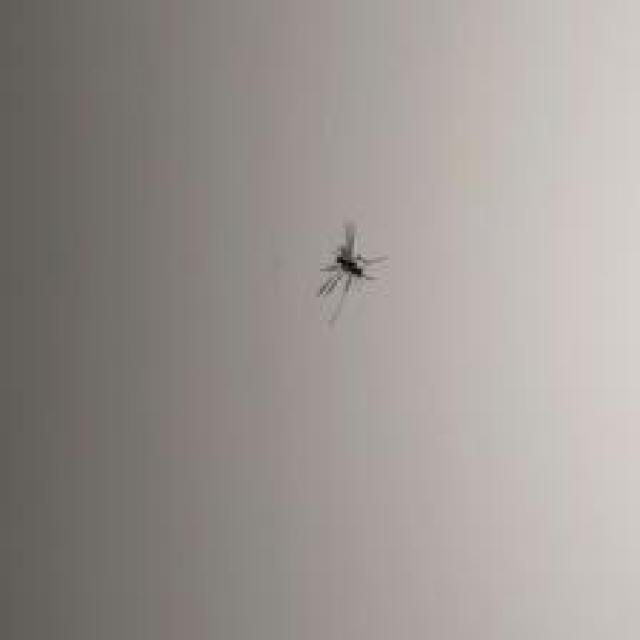Aedes albopictus: (316, 222, 387, 324)
